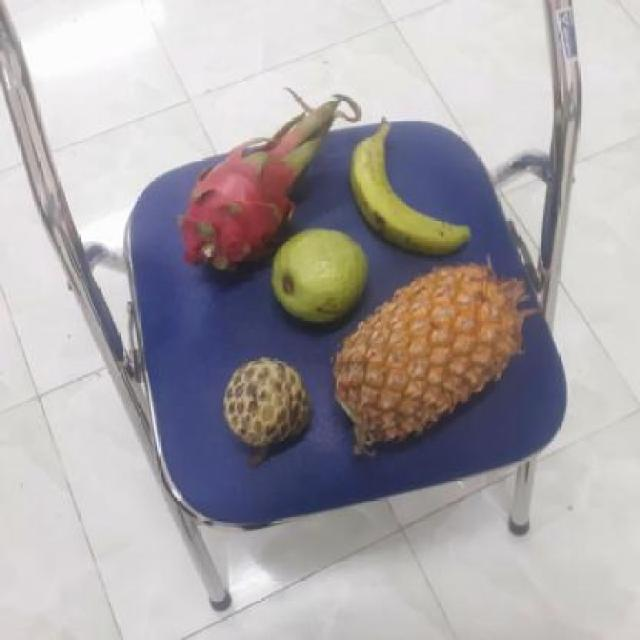banana: (351, 128, 475, 255)
dragon fruit: (183, 122, 334, 270)
guava: (272, 230, 373, 328)
pineapple: (336, 265, 535, 449)
sugar apple: (226, 358, 320, 450)
